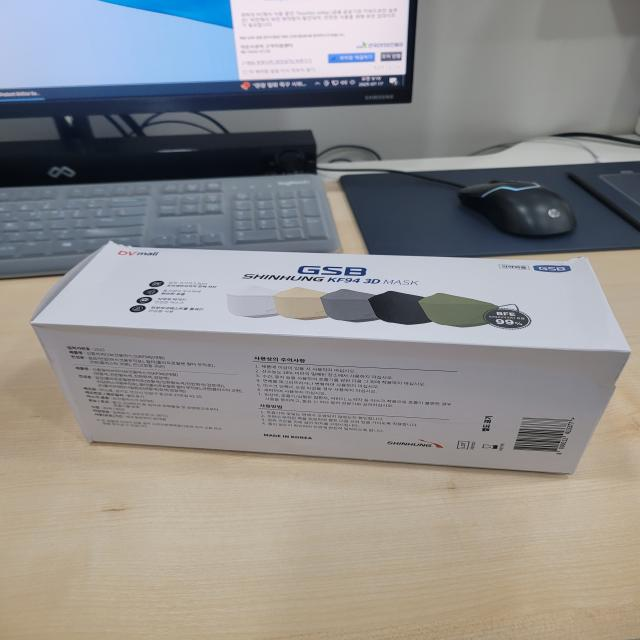mask: (16, 217, 640, 498)
